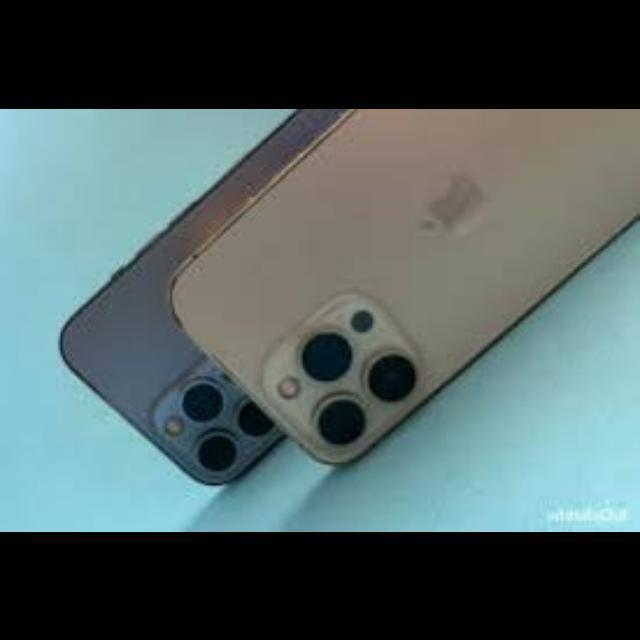PhoneUse: (167, 108, 639, 466), (59, 110, 340, 484)
